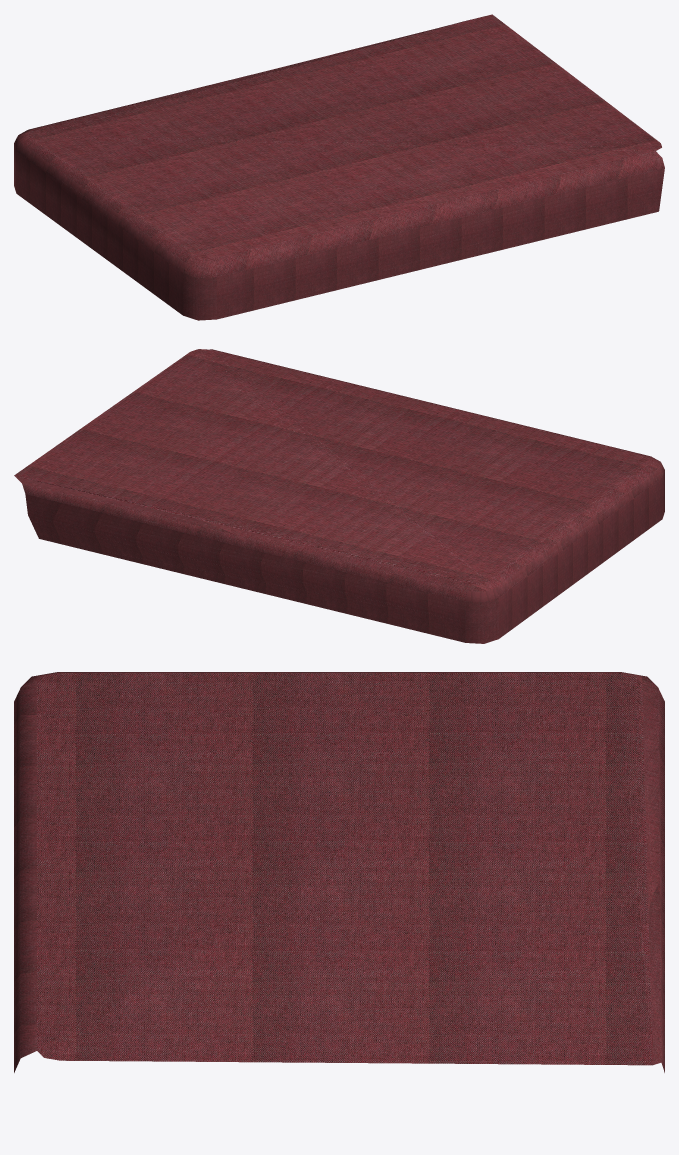
File: Cama - Edredom.fbx
3 views of the same model, one above another, from view 1: azimuth 30°, elevation 25°; view 2: azimuth 150°, elevation 25°; view 3: azimuth 270°, elevation 25° (orthographic). The views are drawn at different scales.
Visible parts, largest first — view 1: Cube.053; view 2: Cube.053; view 3: Cube.053.
Boxes of the visible parts, x1,y1,x2,y2 form: Cube.053: [14, 14, 664, 320]; Cube.053: [14, 349, 664, 643]; Cube.053: [14, 672, 664, 1072].
Bounding box in the file's own units: 479 × 51.62 × 328.
